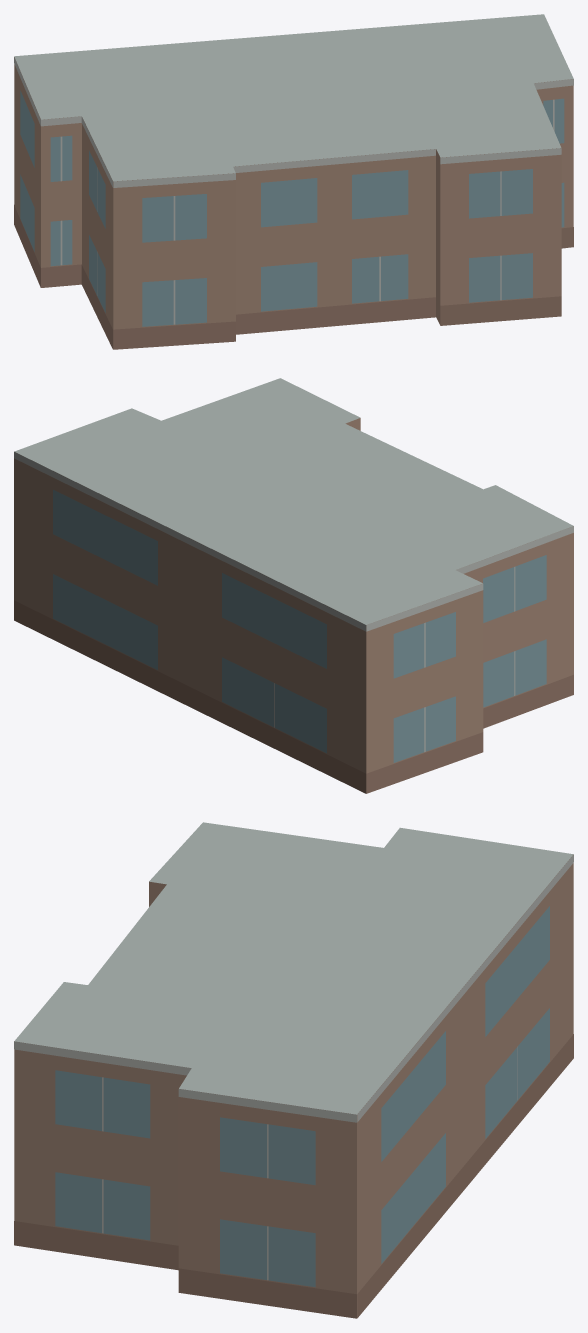
File: survey-upis-32986751.glb
3 renders of one model, top to bottom at view 1: azimuth 30°, elevation 25°; view 2: azimuth 150°, elevation 25°; view 3: azimuth 270°, elevation 25°, orthographic. The views are drawn at different scales.
Parts seen in each view (by area): view 1: survey-upis-32986751.tmp; view 2: survey-upis-32986751.tmp; view 3: survey-upis-32986751.tmp.
Boxes of the visible parts, x1,y1,x2,y2 form: survey-upis-32986751.tmp: (14, 14, 573, 349); survey-upis-32986751.tmp: (14, 378, 573, 793); survey-upis-32986751.tmp: (14, 822, 573, 1318).
Bounding box in the file's own units: 18.76 × 6.1 × 15.18.
